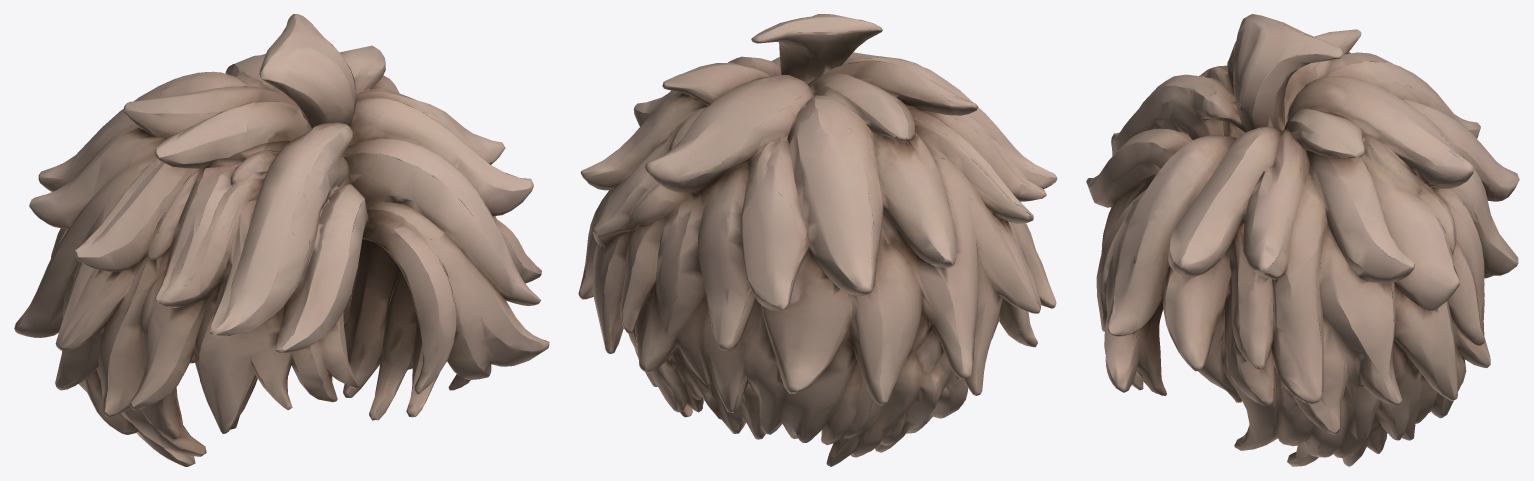
File: hair_m03.glb
3 renders of one model, left to right at view 1: azimuth 30°, elevation 25°; view 2: azimuth 150°, elevation 25°; view 3: azimuth 270°, elevation 25°, orthographic. The views are drawn at different scales.
Visible parts, largest first — view 1: hair; view 2: hair; view 3: hair.
Part boxes in pixels (x1=…): hair: x1=14, y1=14, x2=549, y2=466; hair: x1=578, y1=14, x2=1057, y2=466; hair: x1=1086, y1=14, x2=1519, y2=466.
Bounding box in the file's own units: 3.05 × 2.64 × 2.61.
Materials: 1 (1 with a texture image).
